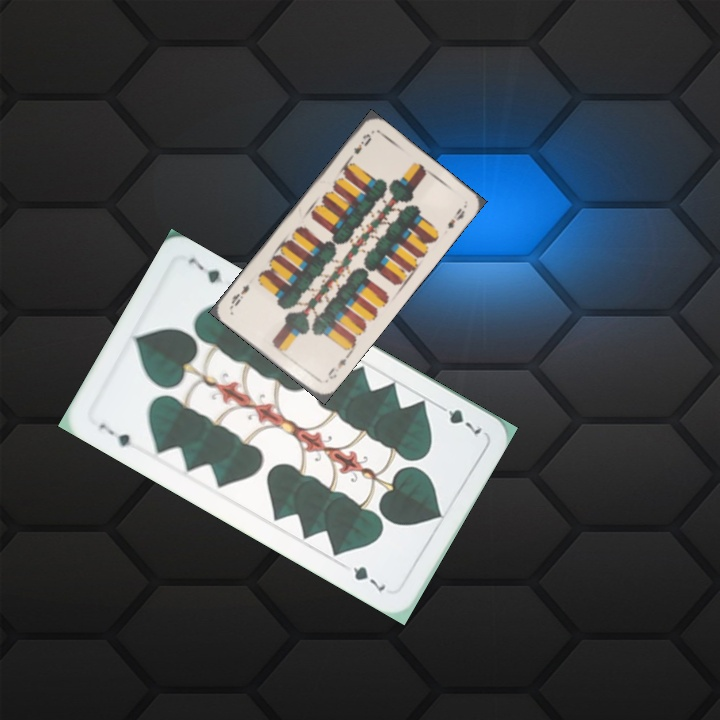E9: (345, 130, 374, 163), (324, 351, 351, 382)
G7: (432, 399, 485, 438), (95, 419, 141, 453)
